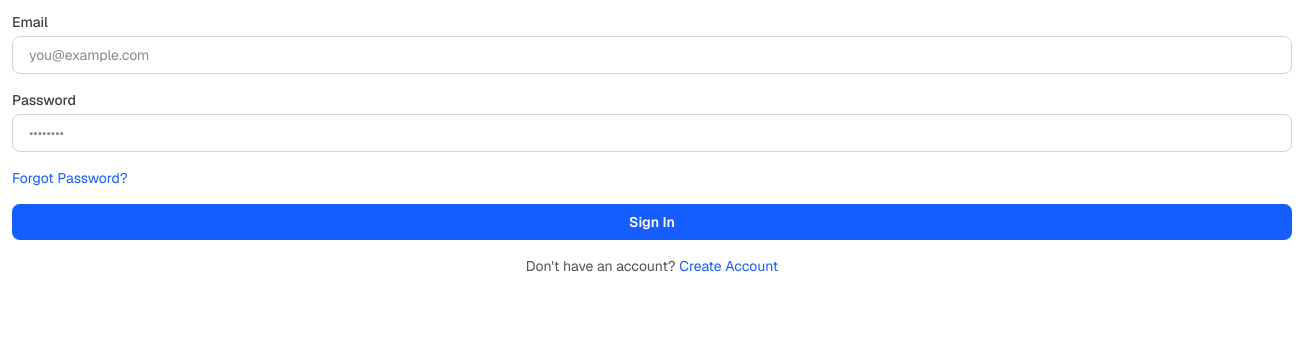
EmailSignIn › validates password length
The image size is (1304, 351).
Type "test@example.com" into the field labelled "Email". click: (652, 55)
box: [12, 36, 1292, 74]
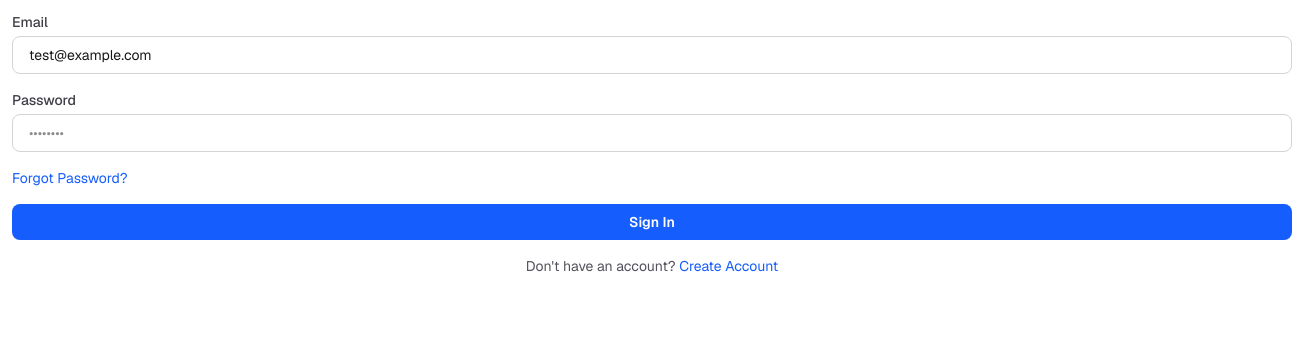
Type "12345" into the password field labelled "Password". click: (652, 133)
box: [12, 114, 1292, 152]
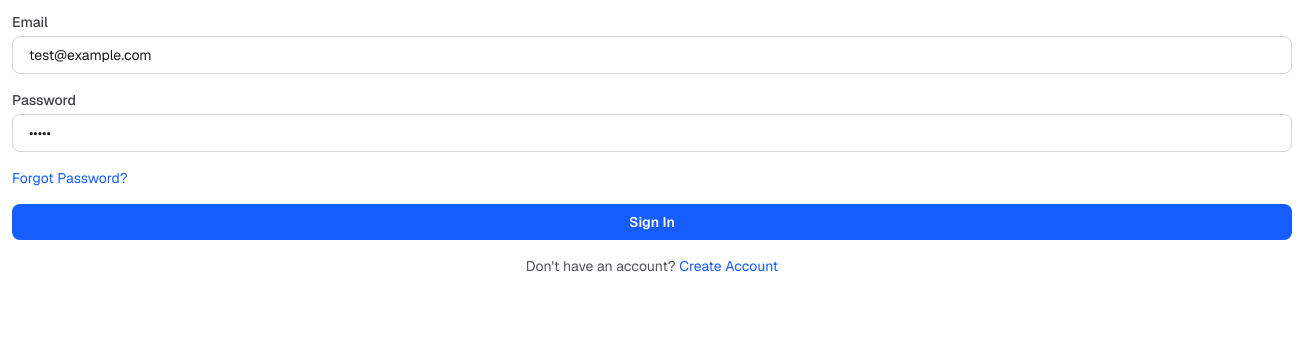
Click the button "Sign In". click: (652, 222)
box: [12, 204, 1292, 240]
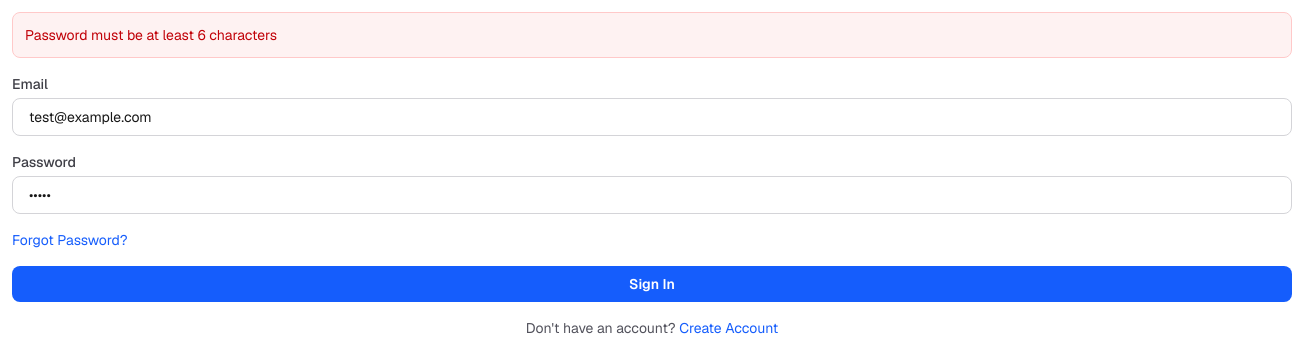
Now the text "Password must be at least 6 characters" is shown, box [12, 12, 1292, 58]
